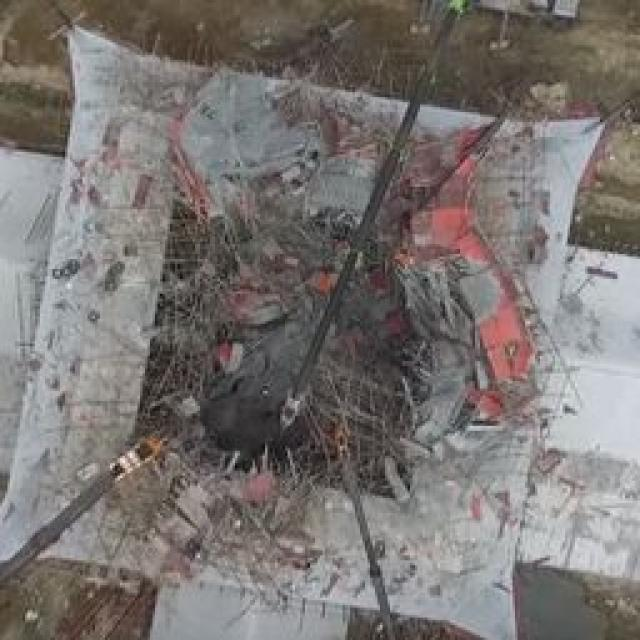collapsed_building: (15, 82, 567, 605)
